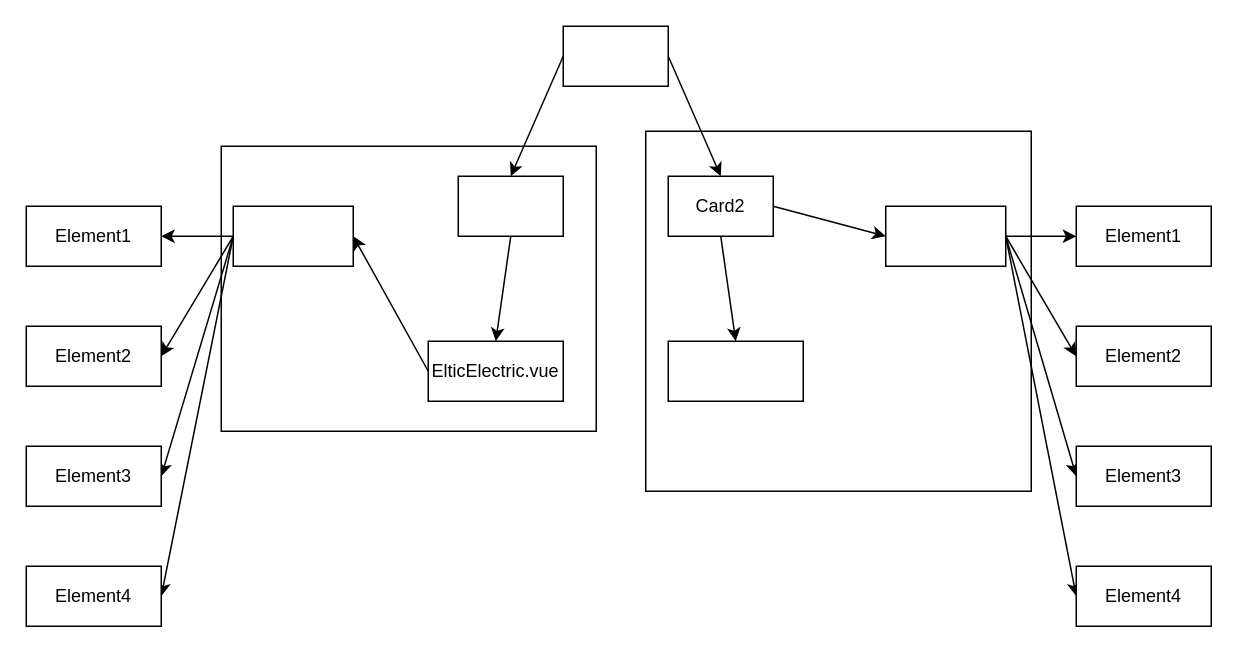
Some shapes in this 1238 by 653 pixel diagram are drawn without their labels. The centre of each missing label's shape, as x and y in pixels:
"Card1" belongs at point 510,205.
"ElticVideo.vue" belongs at point 735,370.
"Main.vue" belongs at point 615,55.
"NavBarCard1" belongs at point 292,235.
"NavBarCard2" belongs at point 945,235.
